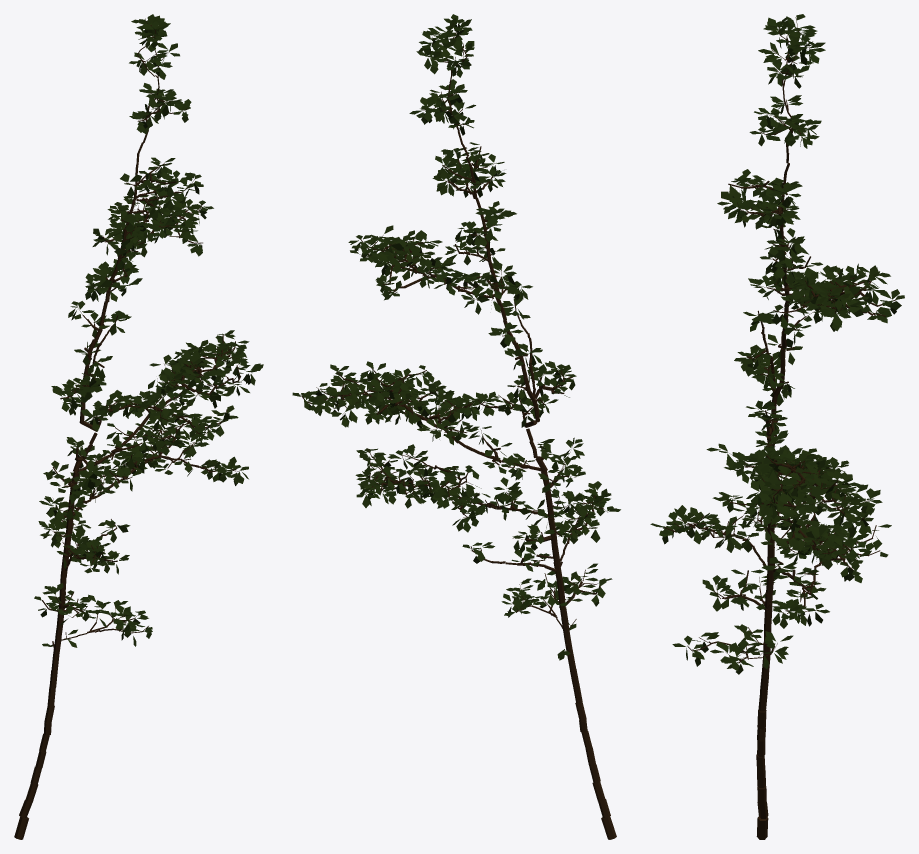
The model's file is tree_211.obj.
3 renders of one model, left to right at view 1: azimuth 30°, elevation 25°; view 2: azimuth 150°, elevation 25°; view 3: azimuth 270°, elevation 25°, orthographic. The views are drawn at different scales.
Parts seen in each view (by area): view 1: Leaves, TrunkAndBranches; view 2: Leaves, TrunkAndBranches; view 3: Leaves, TrunkAndBranches.
Part boxes in pixels (x1,y1,x2,y2): Leaves: (34, 14, 263, 647); TrunkAndBranches: (14, 18, 240, 839); Leaves: (292, 14, 620, 660); TrunkAndBranches: (301, 23, 616, 839); Leaves: (650, 14, 904, 674); TrunkAndBranches: (664, 17, 895, 839).
Bounding box in the file's own units: 6.67 × 18 × 4.6.
